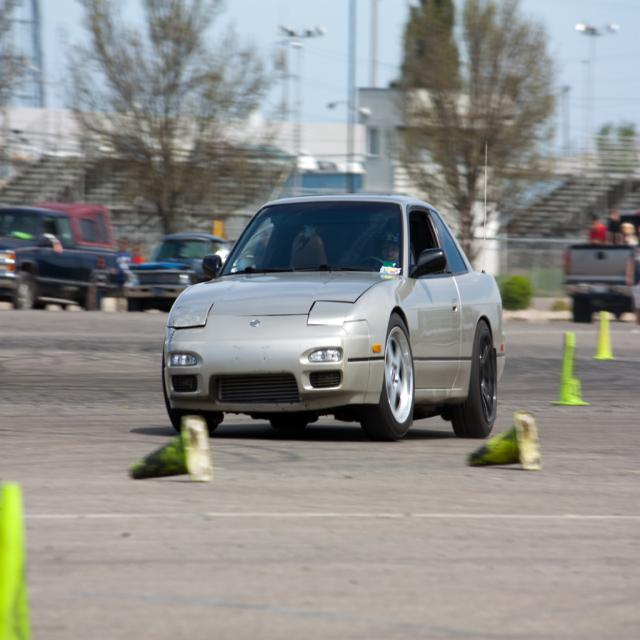car: (161, 140, 504, 442)
